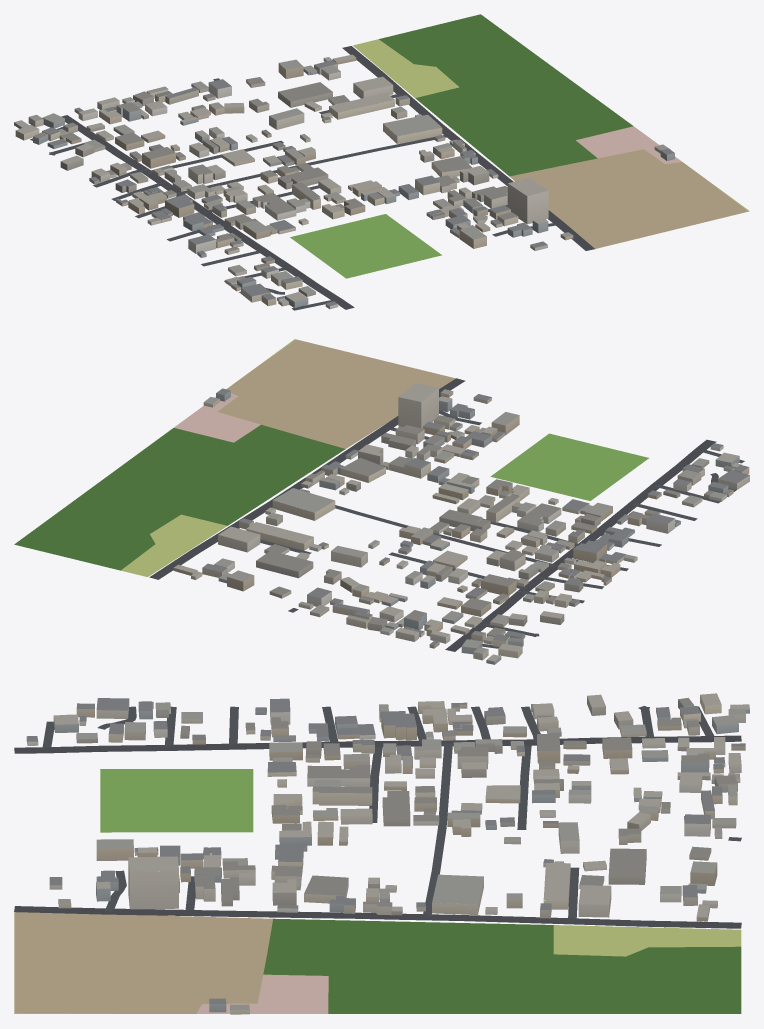
3 renders of one model, top to bottom at view 1: azimuth 30°, elevation 25°; view 2: azimuth 150°, elevation 25°; view 3: azimuth 270°, elevation 25°, orthographic. The views are drawn at different scales.
Visible parts, largest first — view 1: landuse, buildings_walls, buildings_roofs, roads; view 2: landuse, buildings_walls, buildings_roofs, roads; view 3: landuse, buildings_roofs, buildings_walls, roads.
Boxes of the visible parts, x1=… form: landuse: x1=290, y1=14, x2=749, y2=278; buildings_walls: x1=14, y1=58, x2=674, y2=309; buildings_roofs: x1=14, y1=54, x2=674, y2=305; roads: x1=30, y1=46, x2=594, y2=310; landuse: x1=14, y1=339, x2=648, y2=576; buildings_walls: x1=173, y1=388, x2=749, y2=664; buildings_roofs: x1=174, y1=383, x2=749, y2=661; roads: x1=149, y1=378, x2=744, y2=651; landuse: x1=14, y1=769, x2=741, y2=1013; buildings_roofs: x1=26, y1=693, x2=749, y2=1010; buildings_walls: x1=26, y1=695, x2=749, y2=1014; roads: x1=14, y1=706, x2=741, y2=928.
Bounding box in the file's own units: 509 × 28.79 × 506.
